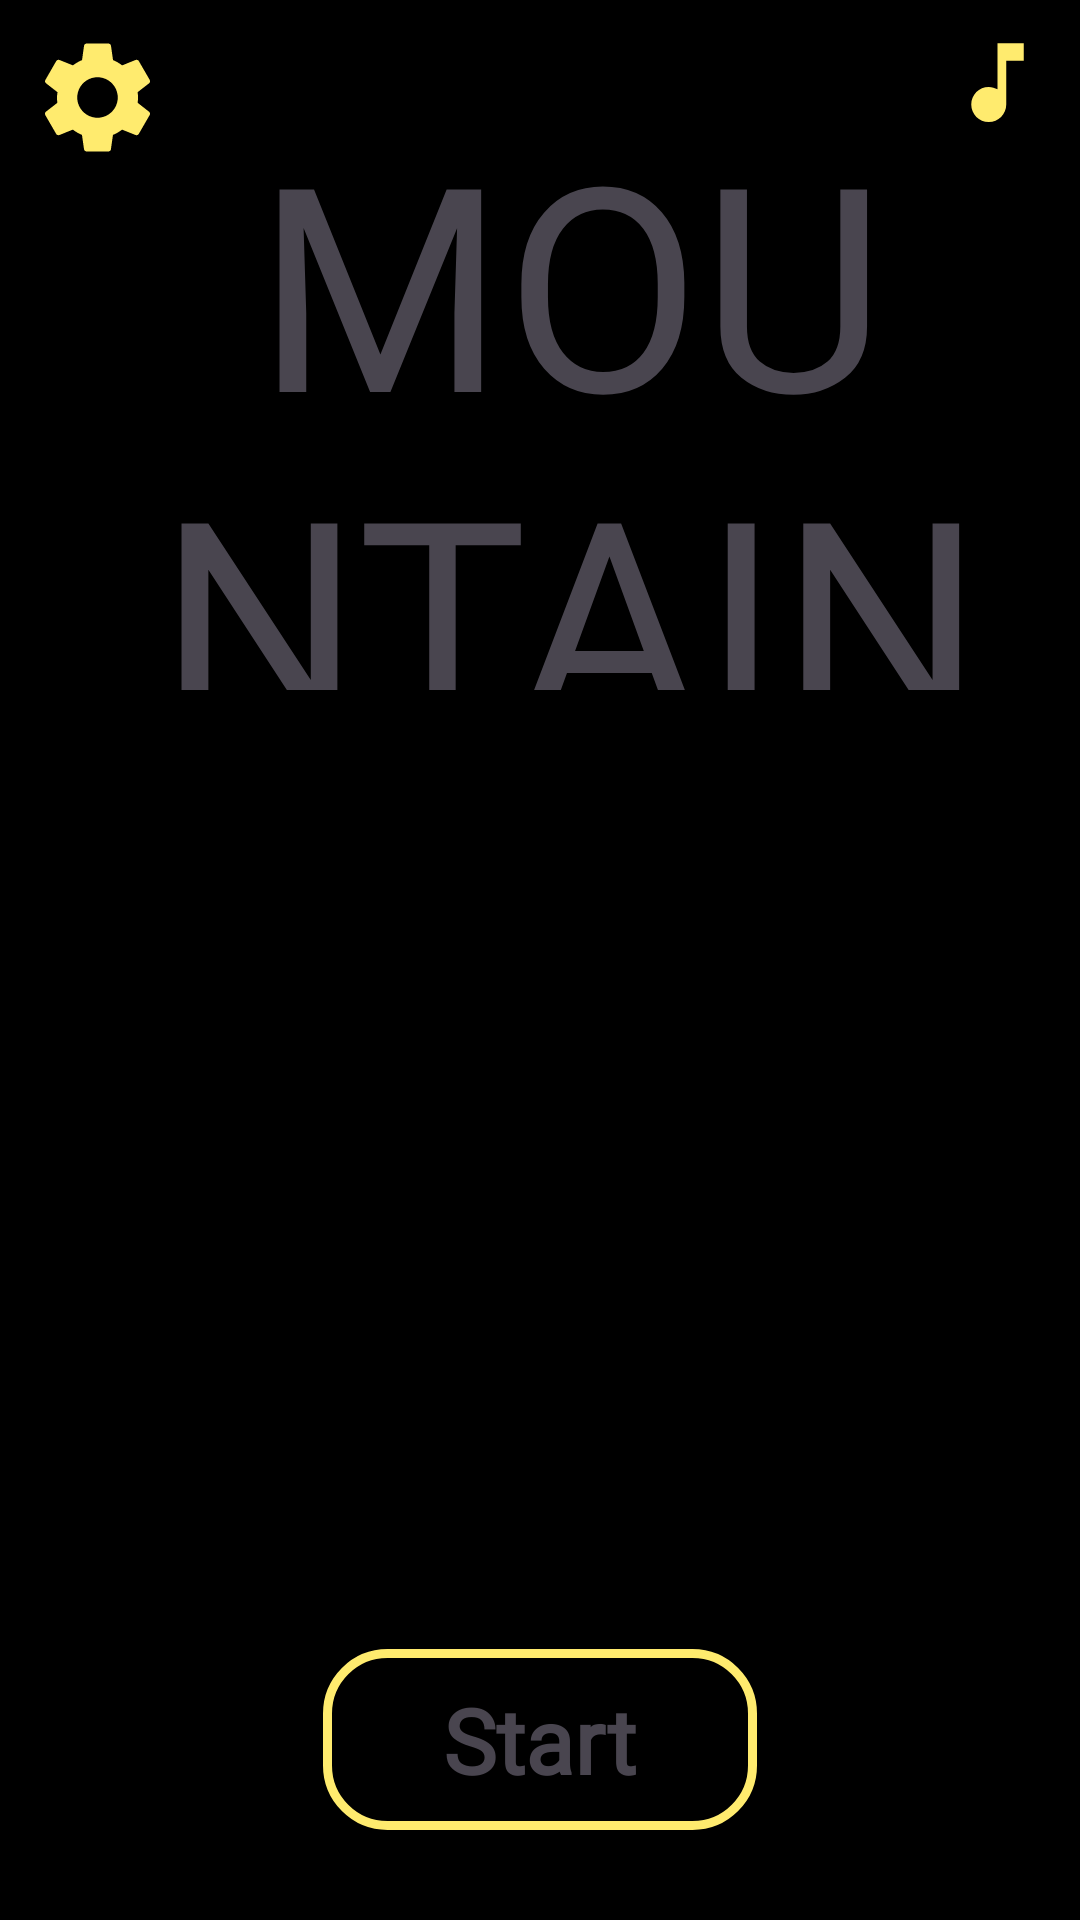

Icon click points for this 1080w x 1920h phone screenshot, format (x,y):
music play: (997,82)
settings: (97,97)
